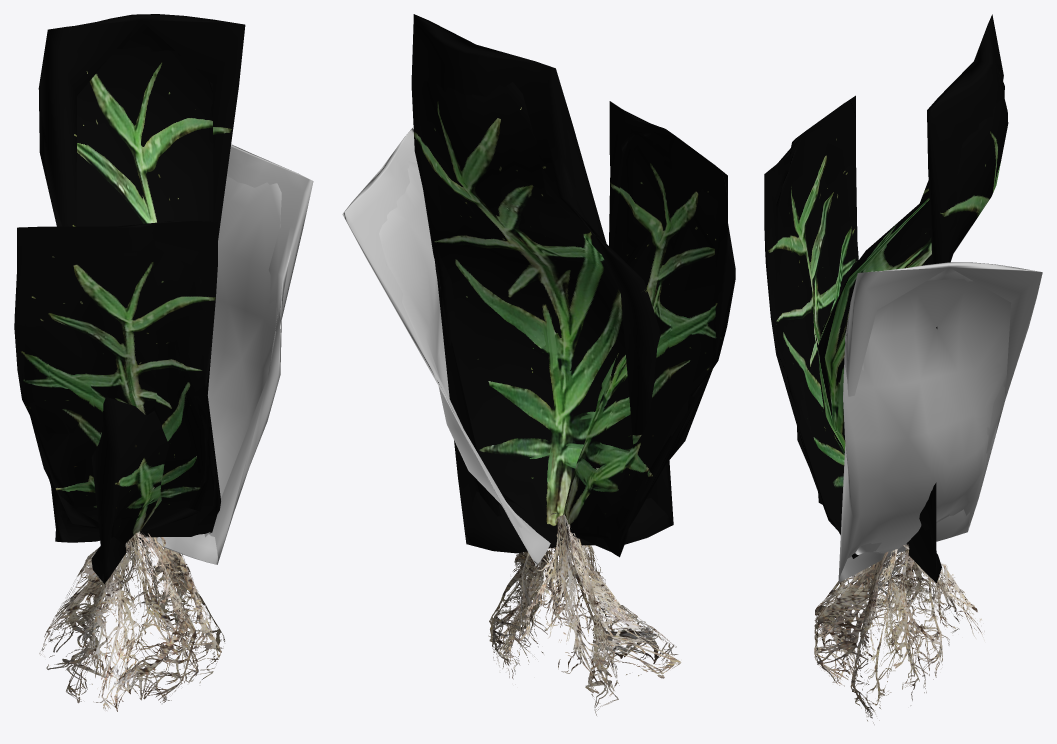
Rendered from Weed.fbx.
3 views of the same model, side by side, from view 1: azimuth 30°, elevation 25°; view 2: azimuth 150°, elevation 25°; view 3: azimuth 270°, elevation 25° (orthographic). The views are drawn at different scales.
Parts seen in each view (by area): view 1: pasted__pCube2 (×2), pCube2, pPipe1; view 2: pCube2, pasted__pCube2 (×2), pPipe1; view 3: pasted__pCube2 (×2), pCube2, pPipe1.
Boxes of the visible parts, left/top/right/bottom form: pasted__pCube2 (×2): left=14, top=144, right=313, bottom=564; pCube2: left=38, top=14, right=245, bottom=583; pPipe1: left=39, top=531, right=224, bottom=711; pCube2: left=411, top=14, right=673, bottom=553; pasted__pCube2 (×2): left=342, top=101, right=735, bottom=565; pPipe1: left=488, top=513, right=681, bottom=715; pasted__pCube2 (×2): left=764, top=95, right=1042, bottom=582; pCube2: left=818, top=14, right=1008, bottom=582; pPipe1: left=814, top=544, right=984, bottom=724.
Bounding box in the file's own units: 11.33 × 22.94 × 8.75.
